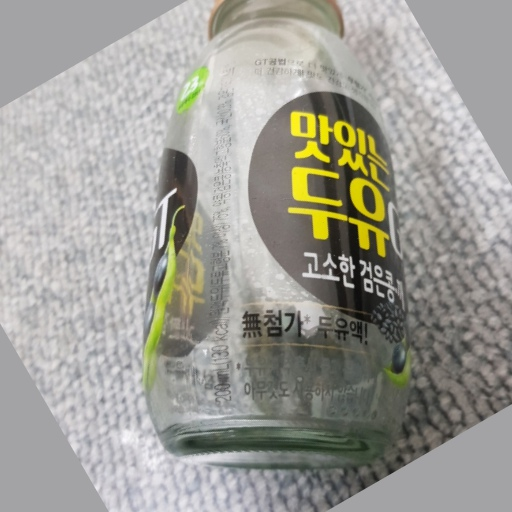Glass_4: (141, 4, 411, 456)
